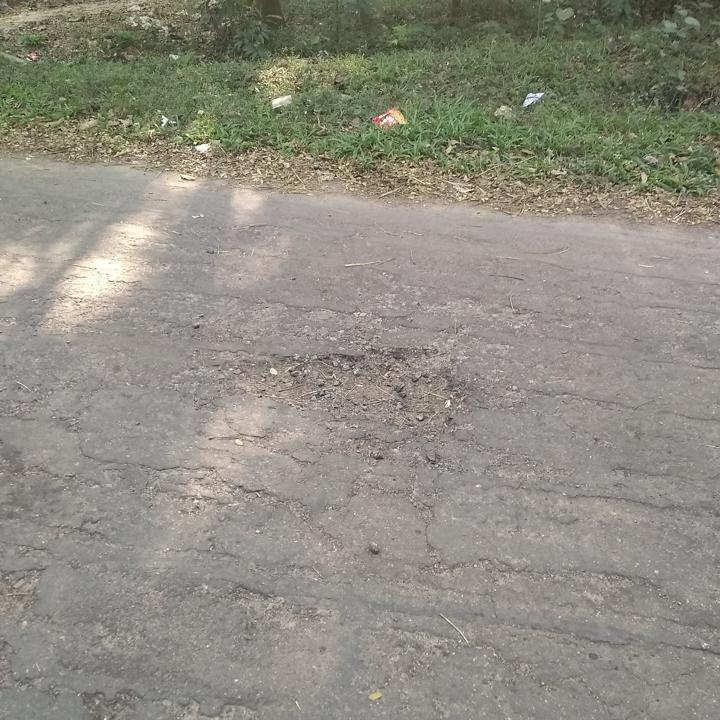pothole: (227, 343, 478, 438)
